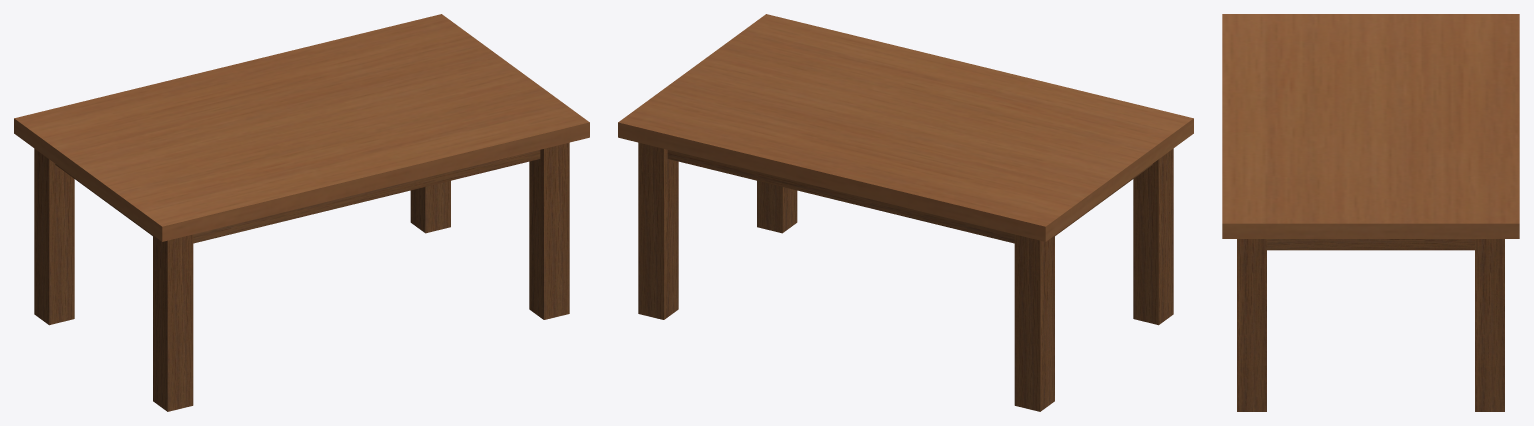
The model's file is Table_1A.fbx.
3 views of the same model, side by side, from view 1: azimuth 30°, elevation 25°; view 2: azimuth 150°, elevation 25°; view 3: azimuth 270°, elevation 25° (orthographic).
Visible parts, largest first — view 1: polySurface1512; view 2: polySurface1512; view 3: polySurface1512.
Part boxes in pixels (x1,y1,x2,y2): polySurface1512: [14, 14, 589, 411]; polySurface1512: [618, 14, 1193, 411]; polySurface1512: [1222, 14, 1519, 411].
Size of the model in its own units: 2.5 by 1.08 by 1.5.
